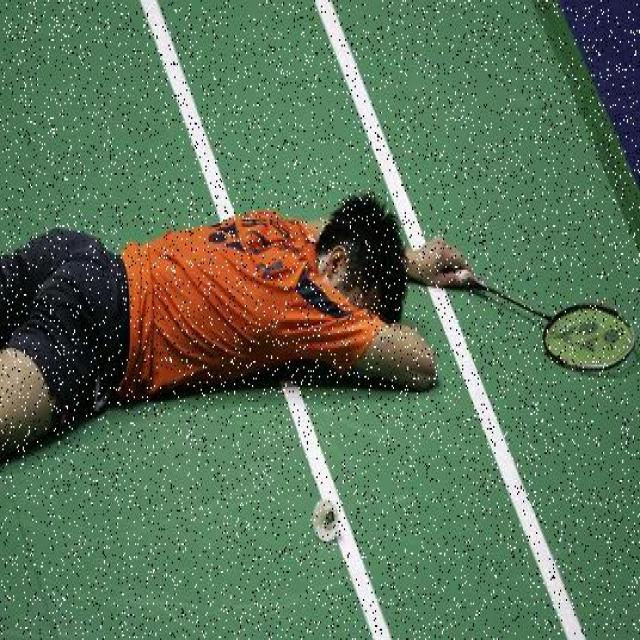fall: (1, 190, 466, 448)
